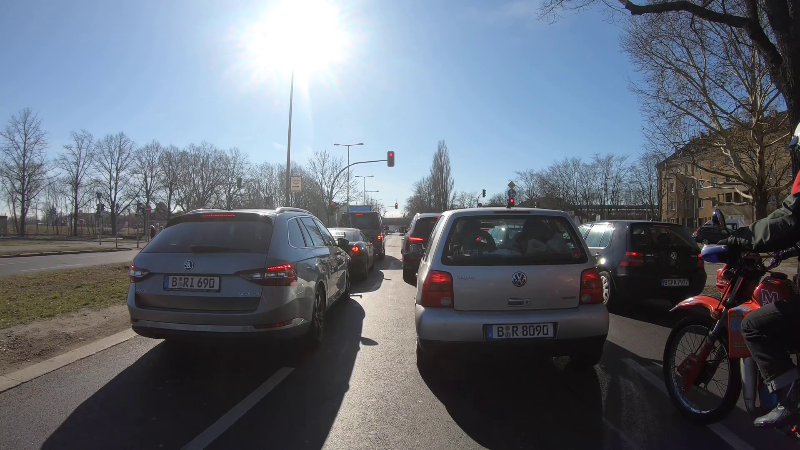Plate: (158, 271, 226, 295), (484, 321, 557, 339), (661, 277, 691, 288)
